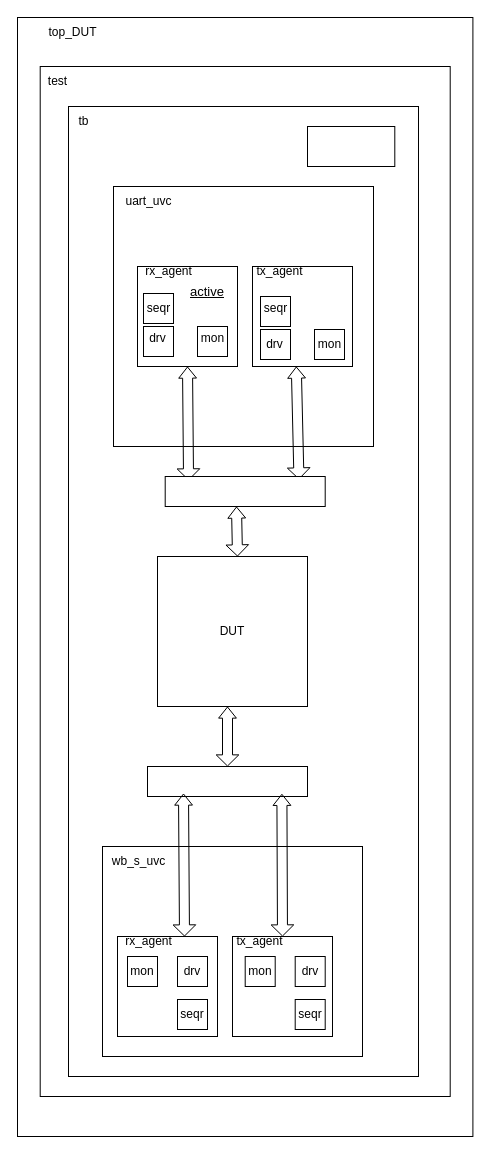
Image size: 491x1154. Some labels were removed from this diagram. The shapes that lost their labels are listed below. From the top down, each one's centre as x and y in pixels, then its label:
At (x=350, y=146): "scb".
At (x=244, y=491): "uart_if".
At (x=227, y=781): "wb_s_if".
